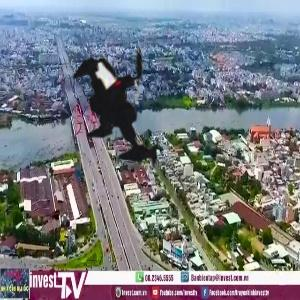drone: (33, 12, 224, 203)
